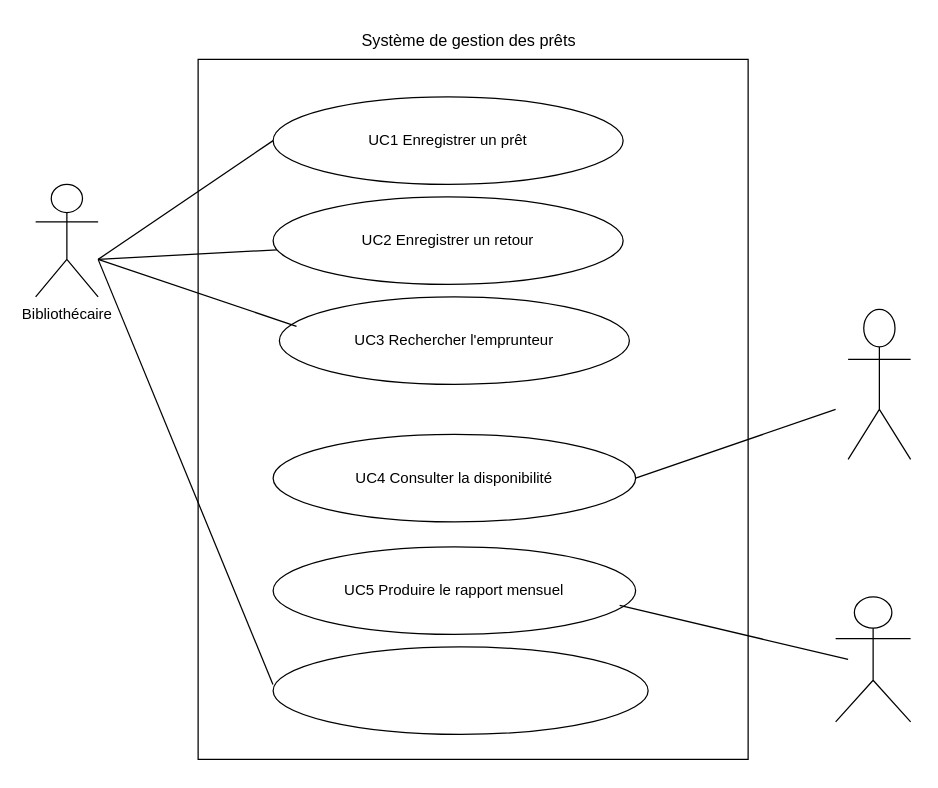
Image size: 938x788. Some labels were removed from this diagram. The shapes that lost their labels are listed below. From the top down, each one's centre as x and y in pixels, then its label:
At [879,383]: "Etudiant".
At [872,659]: "Responsable".
At [460,690]: "UC6 Signaler les retards".
